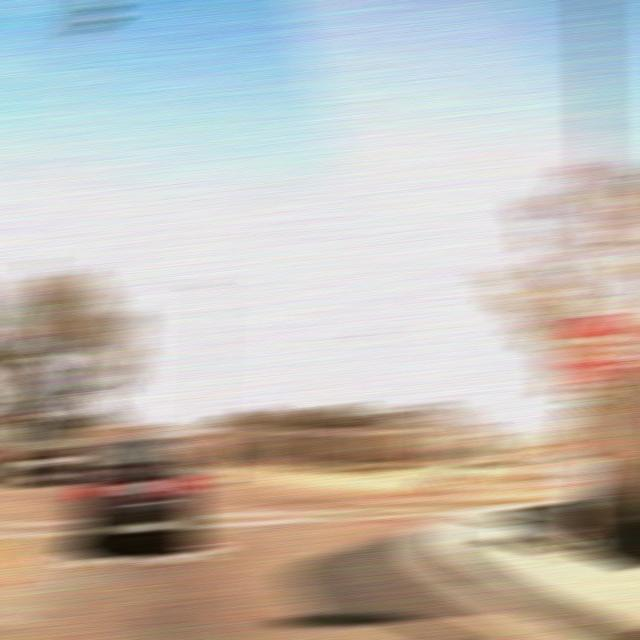stop_sign: (560, 312, 631, 388)
